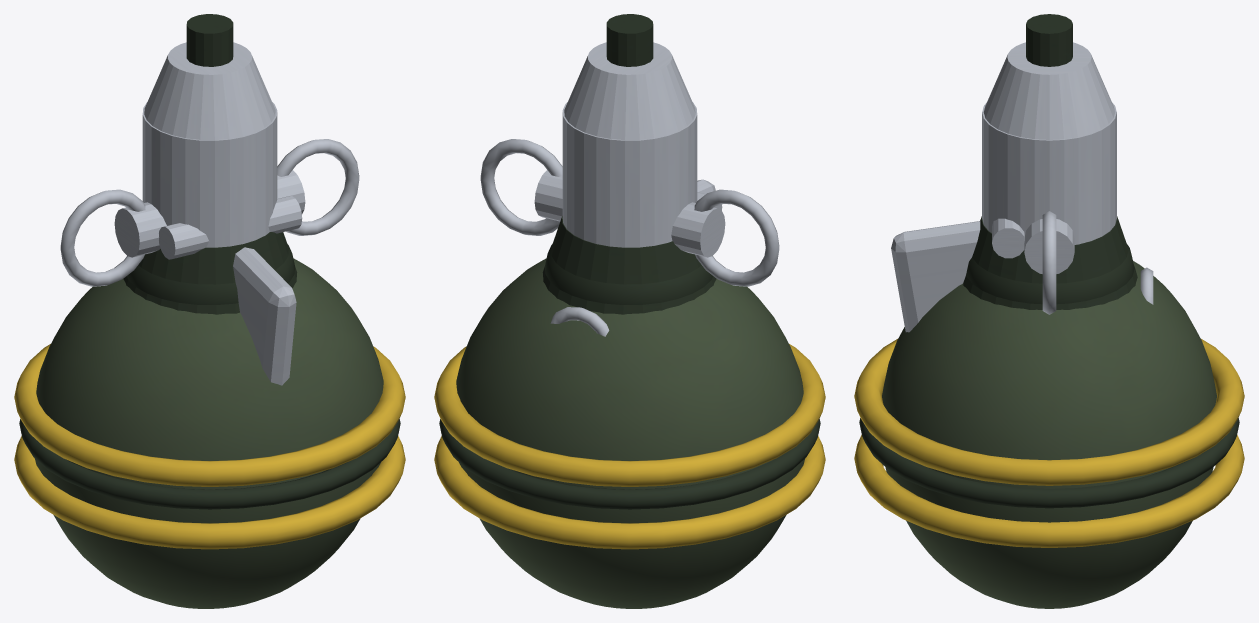
File: wep_grenade.glb
3 views of the same model, side by side, from view 1: azimuth 30°, elevation 25°; view 2: azimuth 150°, elevation 25°; view 3: azimuth 270°, elevation 25° (orthographic).
Parts seen in each view (by area): view 1: wep_grenade_body, wep_grenade_fuze_body, wep_grenade_body_band_hi, wep_grenade_body_band_lo, wep_grenade_fuze_cap, wep_grenade_body_seam, wep_grenade_spoon, wep_grenade_fuze_neck, wep_grenade_pull_ring_l, wep_grenade_pull_ring_r, wep_grenade_top_dome, wep_grenade_spoon_pivot (+3 smaller); view 2: wep_grenade_body, wep_grenade_fuze_body, wep_grenade_body_band_hi, wep_grenade_body_band_lo, wep_grenade_fuze_cap, wep_grenade_body_seam, wep_grenade_fuze_neck, wep_grenade_top_dome, wep_grenade_pull_ring_l, wep_grenade_pull_ring_r, wep_grenade_fuze_crown, wep_grenade_pin_collar_l (+2 smaller); view 3: wep_grenade_body, wep_grenade_body_band_hi, wep_grenade_fuze_body, wep_grenade_body_band_lo, wep_grenade_fuze_cap, wep_grenade_body_seam, wep_grenade_spoon, wep_grenade_fuze_neck, wep_grenade_top_dome, wep_grenade_fuze_crown, wep_grenade_pin_collar_r, wep_grenade_pull_ring_r (+1 smaller).
Part boxes in pixels (x1=…): wep_grenade_body: x1=34, y1=258, x2=383, y2=608; wep_grenade_fuze_body: x1=142, y1=102, x2=277, y2=247; wep_grenade_body_band_hi: x1=14, y1=344, x2=405, y2=486; wep_grenade_body_band_lo: x1=14, y1=436, x2=405, y2=549; wep_grenade_fuze_cap: x1=144, y1=42, x2=275, y2=139; wep_grenade_body_seam: x1=19, y1=419, x2=400, y2=509; wep_grenade_spoon: x1=233, y1=247, x2=296, y2=385; wep_grenade_fuze_neck: x1=123, y1=232, x2=297, y2=314; wep_grenade_pull_ring_l: x1=60, y1=189, x2=145, y2=286; wep_grenade_pull_ring_r: x1=277, y1=139, x2=359, y2=235; wep_grenade_top_dome: x1=127, y1=244, x2=294, y2=304; wep_grenade_spoon_pivot: x1=159, y1=195, x2=302, y2=259; wep_grenade_body: x1=456, y1=258, x2=805, y2=608; wep_grenade_fuze_body: x1=562, y1=102, x2=697, y2=247; wep_grenade_body_band_hi: x1=434, y1=344, x2=825, y2=486; wep_grenade_body_band_lo: x1=434, y1=436, x2=825, y2=549; wep_grenade_fuze_cap: x1=564, y1=42, x2=695, y2=139; wep_grenade_body_seam: x1=439, y1=419, x2=820, y2=509; wep_grenade_fuze_neck: x1=542, y1=216, x2=716, y2=314; wep_grenade_top_dome: x1=545, y1=244, x2=712, y2=304; wep_grenade_pull_ring_l: x1=694, y1=189, x2=779, y2=286; wep_grenade_pull_ring_r: x1=480, y1=139, x2=562, y2=235; wep_grenade_fuze_crown: x1=606, y1=14, x2=653, y2=66; wep_grenade_pin_collar_l: x1=671, y1=202, x2=725, y2=257; wep_grenade_body: x1=882, y1=261, x2=1216, y2=608; wep_grenade_body_band_hi: x1=854, y1=339, x2=1244, y2=485; wep_grenade_fuze_body: x1=982, y1=102, x2=1116, y2=244; wep_grenade_body_band_lo: x1=854, y1=435, x2=1244, y2=547; wep_grenade_fuze_cap: x1=983, y1=42, x2=1115, y2=139; wep_grenade_body_seam: x1=859, y1=418, x2=1239, y2=508; wep_grenade_spoon: x1=891, y1=221, x2=980, y2=332; wep_grenade_fuze_neck: x1=963, y1=216, x2=1137, y2=309; wep_grenade_top_dome: x1=966, y1=244, x2=1134, y2=304; wep_grenade_fuze_crown: x1=1026, y1=14, x2=1072, y2=66; wep_grenade_pin_collar_r: x1=1024, y1=219, x2=1074, y2=273; wep_grenade_pull_ring_r: x1=1042, y1=211, x2=1056, y2=314.
Bounding box in the file's own units: 0.0962 × 0.1547 × 0.0962.
Materials: 4 (4 with a texture image).
